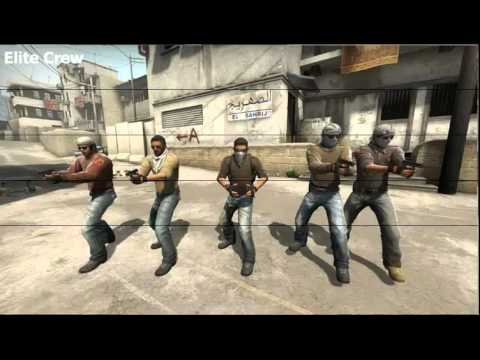t: (293, 120, 353, 282), (353, 123, 409, 275), (210, 135, 268, 277), (132, 135, 185, 276), (69, 133, 114, 276)
th: (140, 133, 181, 162), (70, 133, 103, 162), (317, 119, 346, 151), (370, 123, 396, 150), (229, 136, 250, 166)
